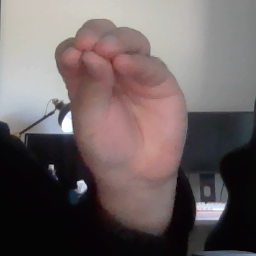M: (52, 14, 192, 187)
